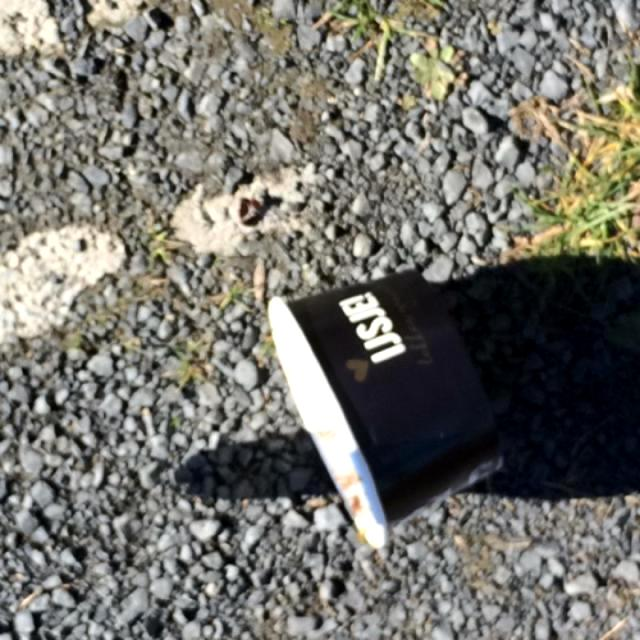Paper: (264, 266, 506, 552)
